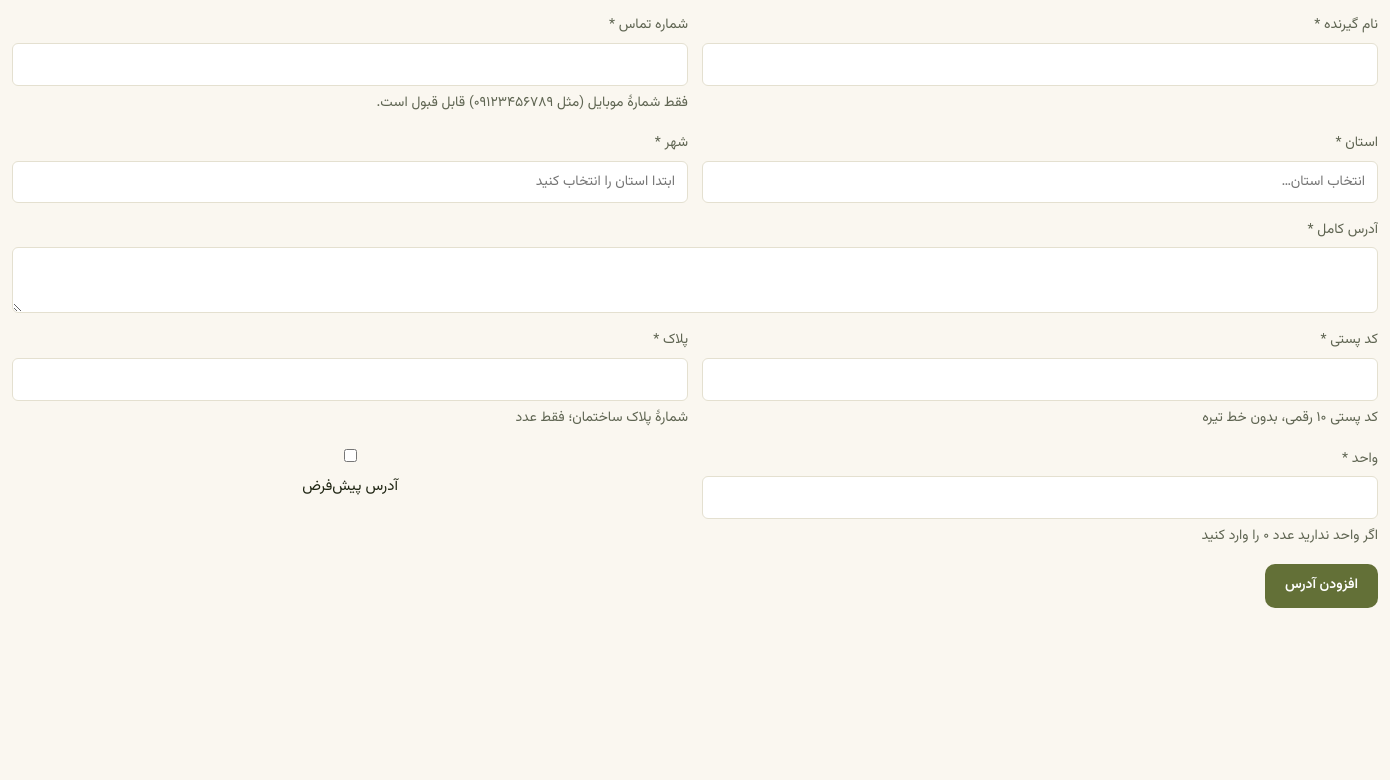
Test: address form (S1 item 3) › blocks submit with inline Persian errors and focuses the first invalid field
This screenshot has width=1390, height=780.
Type "تست" into the field labelled "نام گیرنده *".
click(1040, 64); type("تست")  # box [702, 43, 1378, 86]
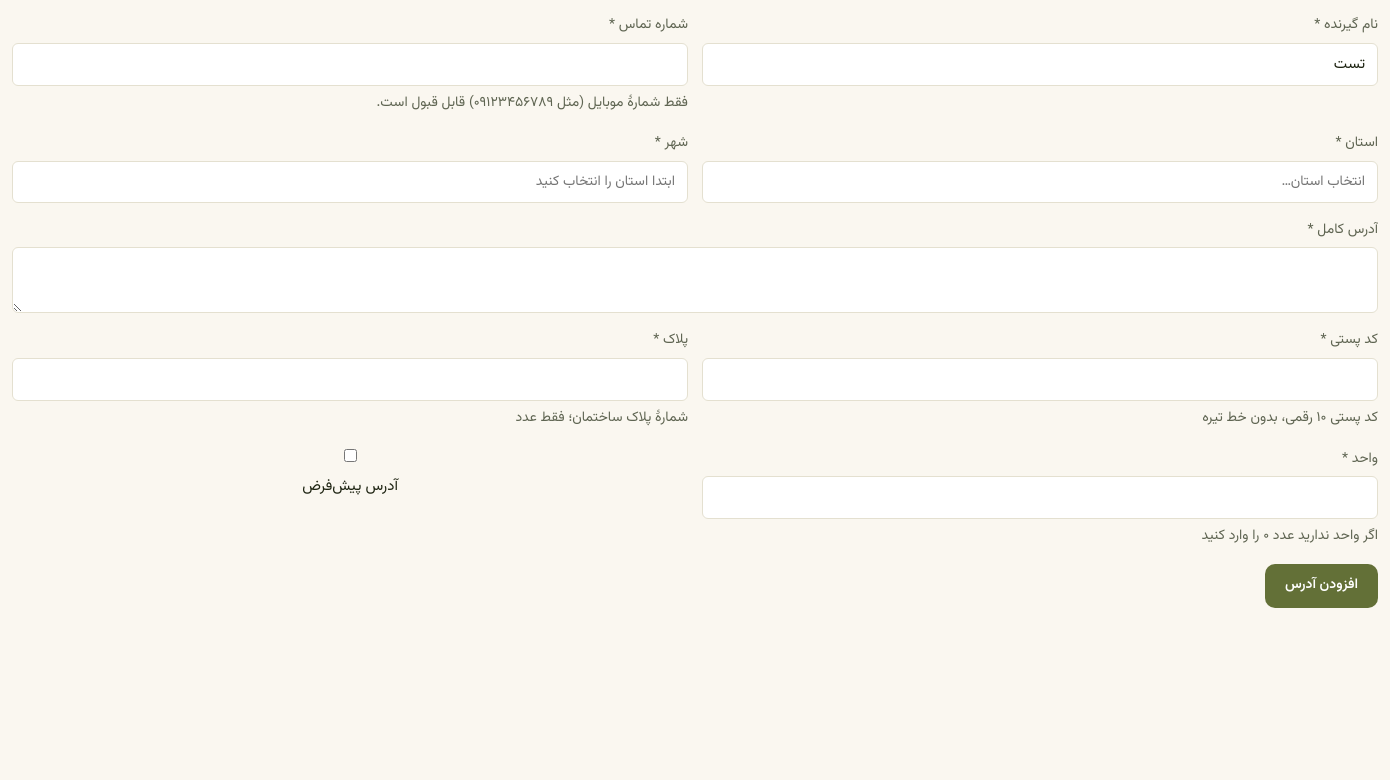
Click the button "افزودن آدرس".
click(1321, 586)  # box [1265, 564, 1378, 608]
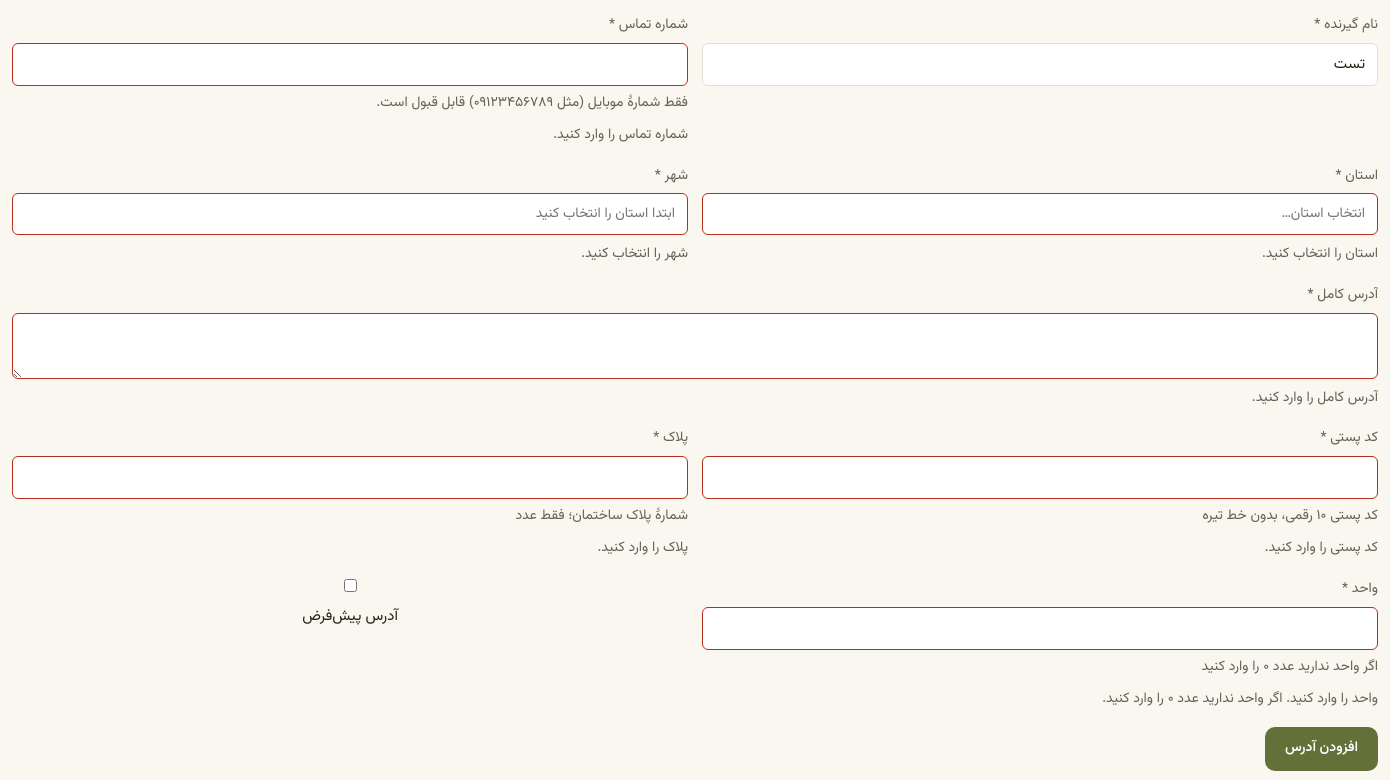
Expected: the text "شماره تماس را وارد کنید." is shown, [553, 124, 688, 146]
Expected: the text "کد پستی را وارد کنید." is shown, [1265, 537, 1378, 559]
